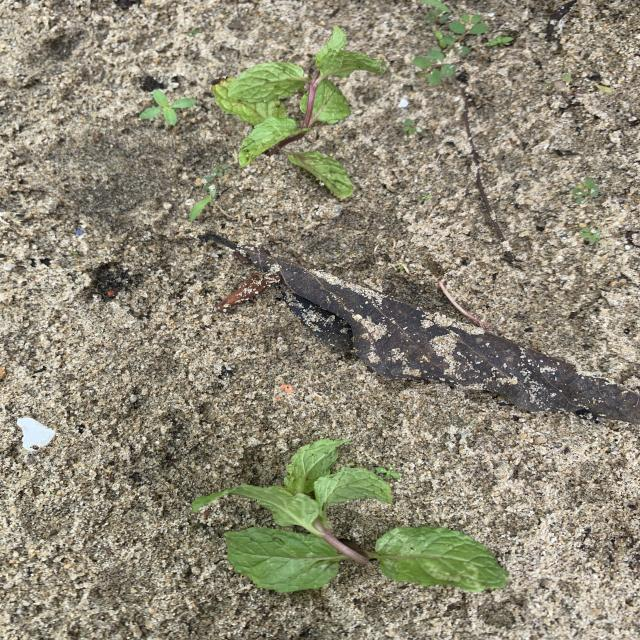crop: (192, 440, 506, 592), (211, 26, 387, 199)
weed: (414, 14, 486, 83), (140, 90, 195, 124), (189, 190, 214, 221), (572, 178, 599, 203), (579, 226, 601, 243), (403, 119, 423, 134), (376, 466, 399, 479), (488, 36, 513, 46), (212, 164, 227, 176)
